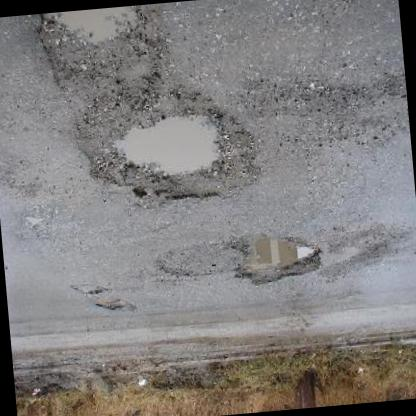pothole: (66, 78, 264, 216), (34, 4, 174, 92), (230, 228, 327, 290), (94, 295, 136, 317), (72, 280, 109, 300)
